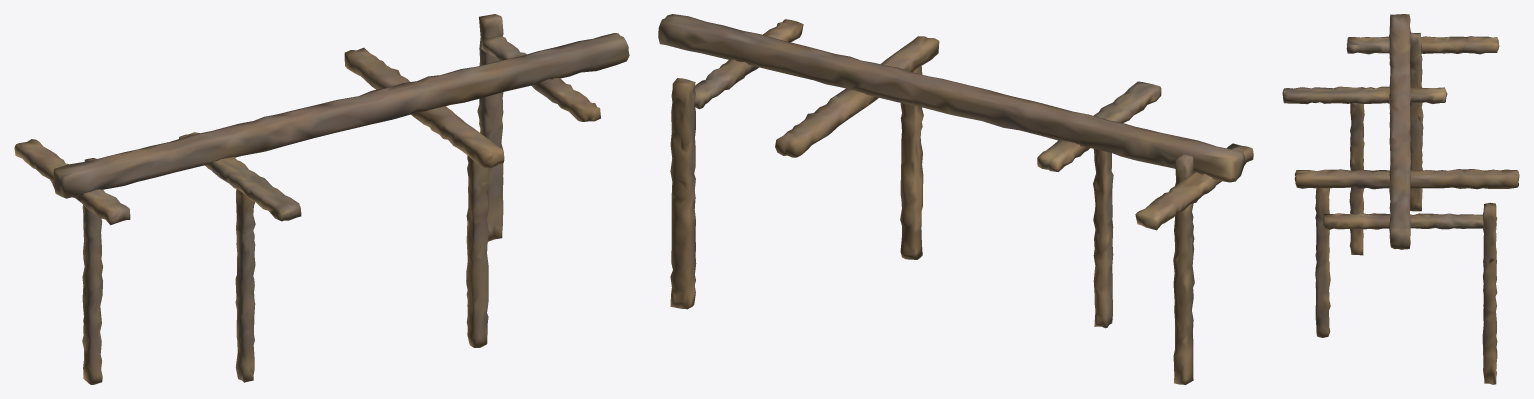
The model's file is Beams01.fbx.
3 renders of one model, left to right at view 1: azimuth 30°, elevation 25°; view 2: azimuth 150°, elevation 25°; view 3: azimuth 270°, elevation 25°, orthographic. The views are drawn at different scales.
Visible parts, largest first — view 1: Beams01; view 2: Beams01; view 3: Beams01.
Part boxes in pixels (box(x1,y1,x2,y2)): Beams01: box(14, 14, 629, 384); Beams01: box(658, 14, 1253, 384); Beams01: box(1282, 14, 1519, 384).
Bounding box in the file's own units: 735 × 283 × 336.
